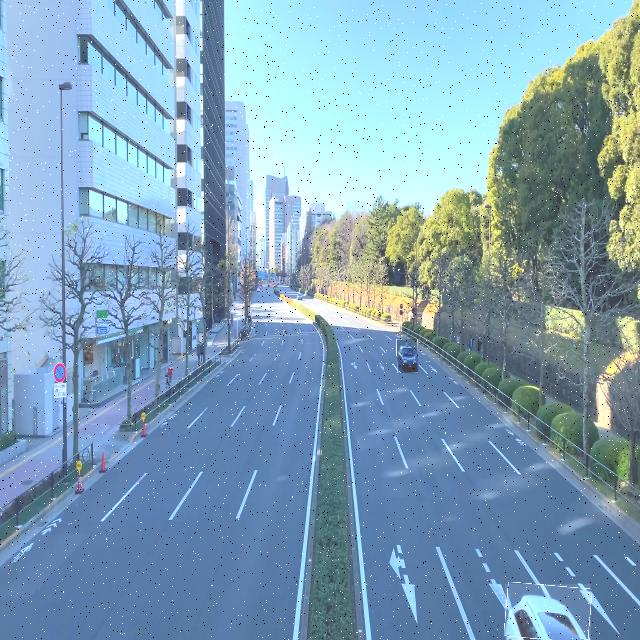Car: (505, 584, 591, 640), (397, 339, 418, 373)
